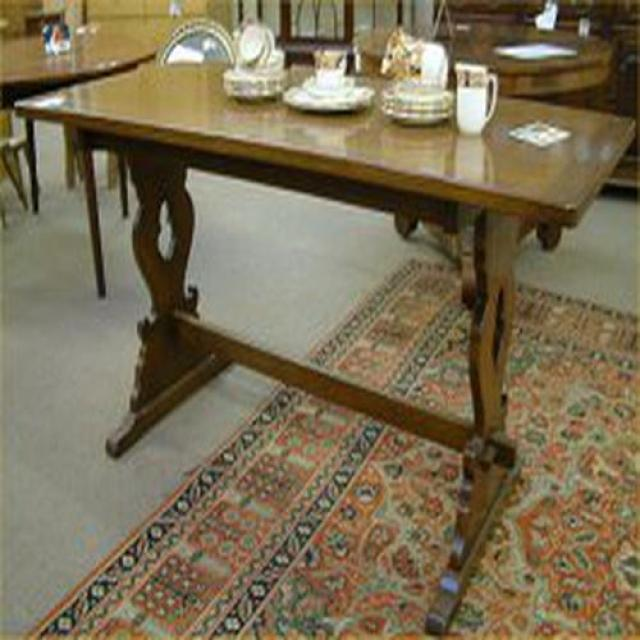table: (14, 61, 635, 632)
